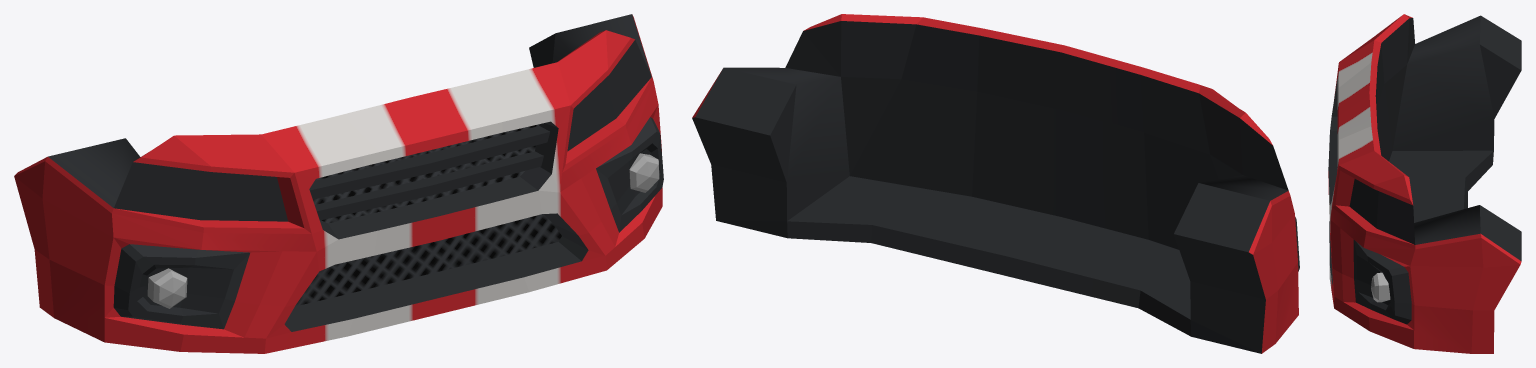
Rendered from SM_Veh_Rally_01_Front_Bumper_01.fbx.
3 renders of one model, left to right at view 1: azimuth 30°, elevation 25°; view 2: azimuth 150°, elevation 25°; view 3: azimuth 270°, elevation 25°, orthographic. The views are drawn at different scales.
Visible parts, largest first — view 1: SM_Veh_Rally_01_Front_Bumper_01; view 2: SM_Veh_Rally_01_Front_Bumper_01; view 3: SM_Veh_Rally_01_Front_Bumper_01.
Boxes of the visible parts, x1,y1,x2,y2 form: SM_Veh_Rally_01_Front_Bumper_01: (14,14,663,353); SM_Veh_Rally_01_Front_Bumper_01: (692,14,1299,353); SM_Veh_Rally_01_Front_Bumper_01: (1328,14,1521,353).
Bounding box in the file's own units: 205 × 65.12 × 74.61.
